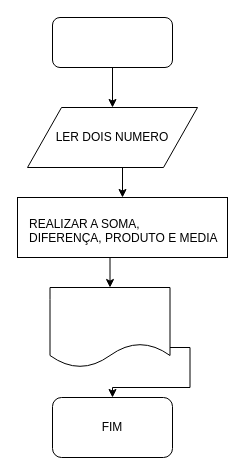
The diagram is 245 pixels wide and 475 high, and some of its shapes have lost their labels. The shapes that lost their labels are listed below. From the top down, each one's centre as x and y in pixels, then its label:
At (x=112, y=42): "INICIO".
At (x=109, y=327): "APRESENTAR O RESULTADO".
